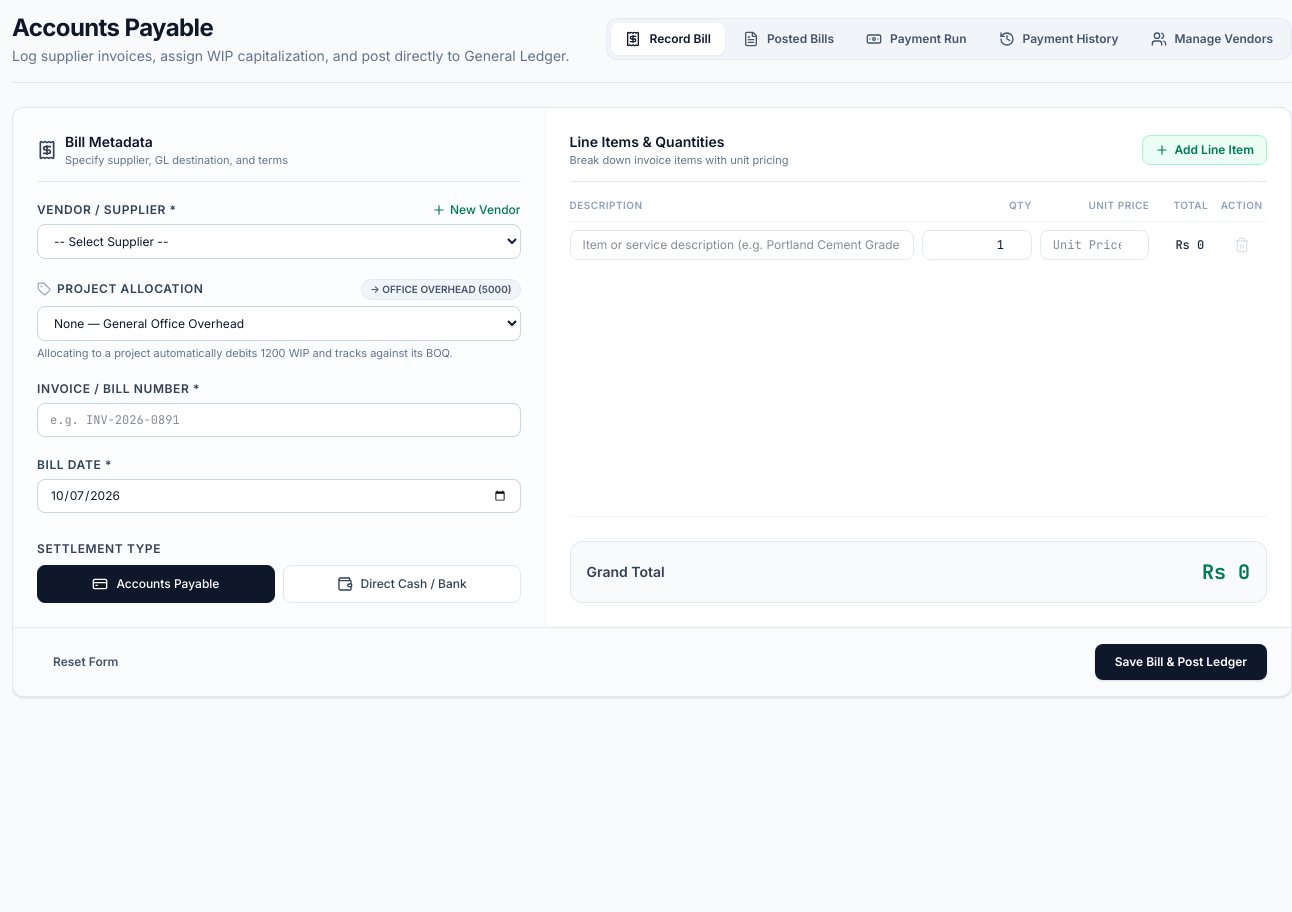
Test: Accounts Payable Page (Screens 5 & 7) › Record Bill Panel (Screen 5) › renders duplicate invoice error inline when server returns DUPLICATE_INVOICE
The width and height of the screenshot is (1292, 912).
// Fill required fields
Select "Bestway Cement (+92 300 1111111)" in the dropdown named "Vendor / Supplier" at (279, 241), box [37, 224, 520, 258]
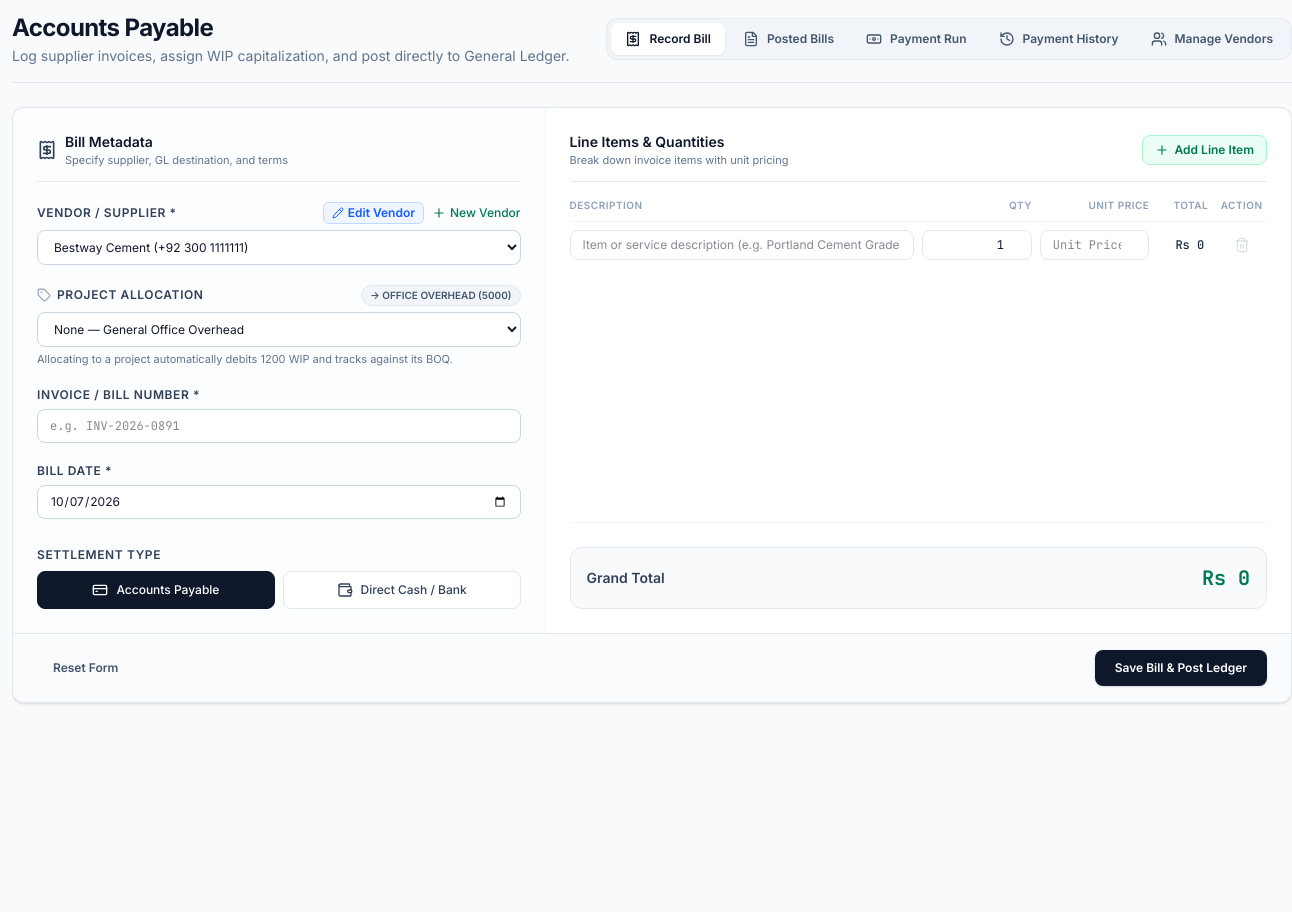
Type "INV-999" into the field with placeholder "e.g. INV-2026-0891".
click(279, 426); type("INV-999")  # box [37, 409, 520, 443]
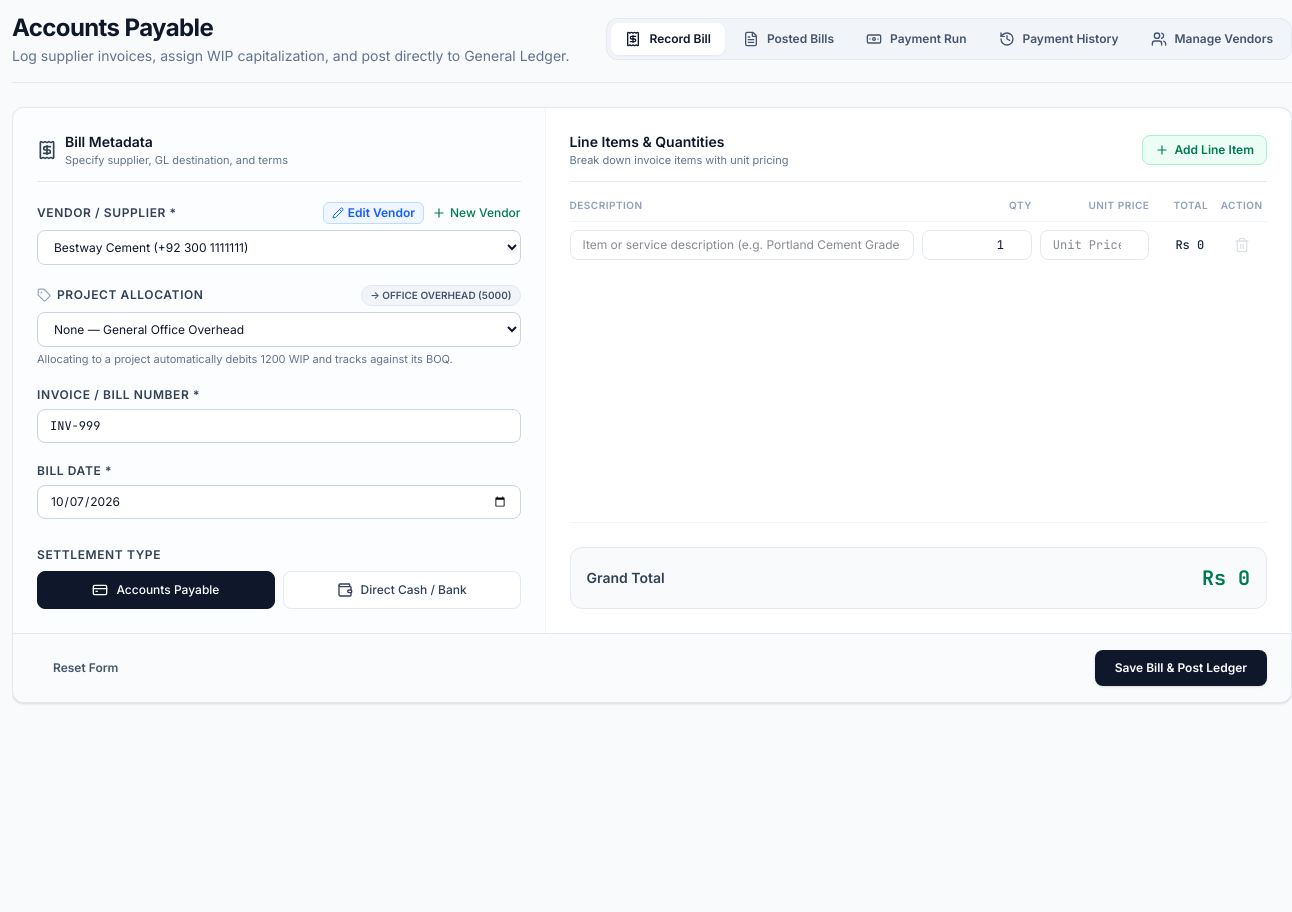
Type "Steel Bars" into the field with placeholder "Item or service description (e.g. Portland Cement Grade 53)".
click(742, 244); type("Steel Bars")  # box [570, 230, 914, 260]
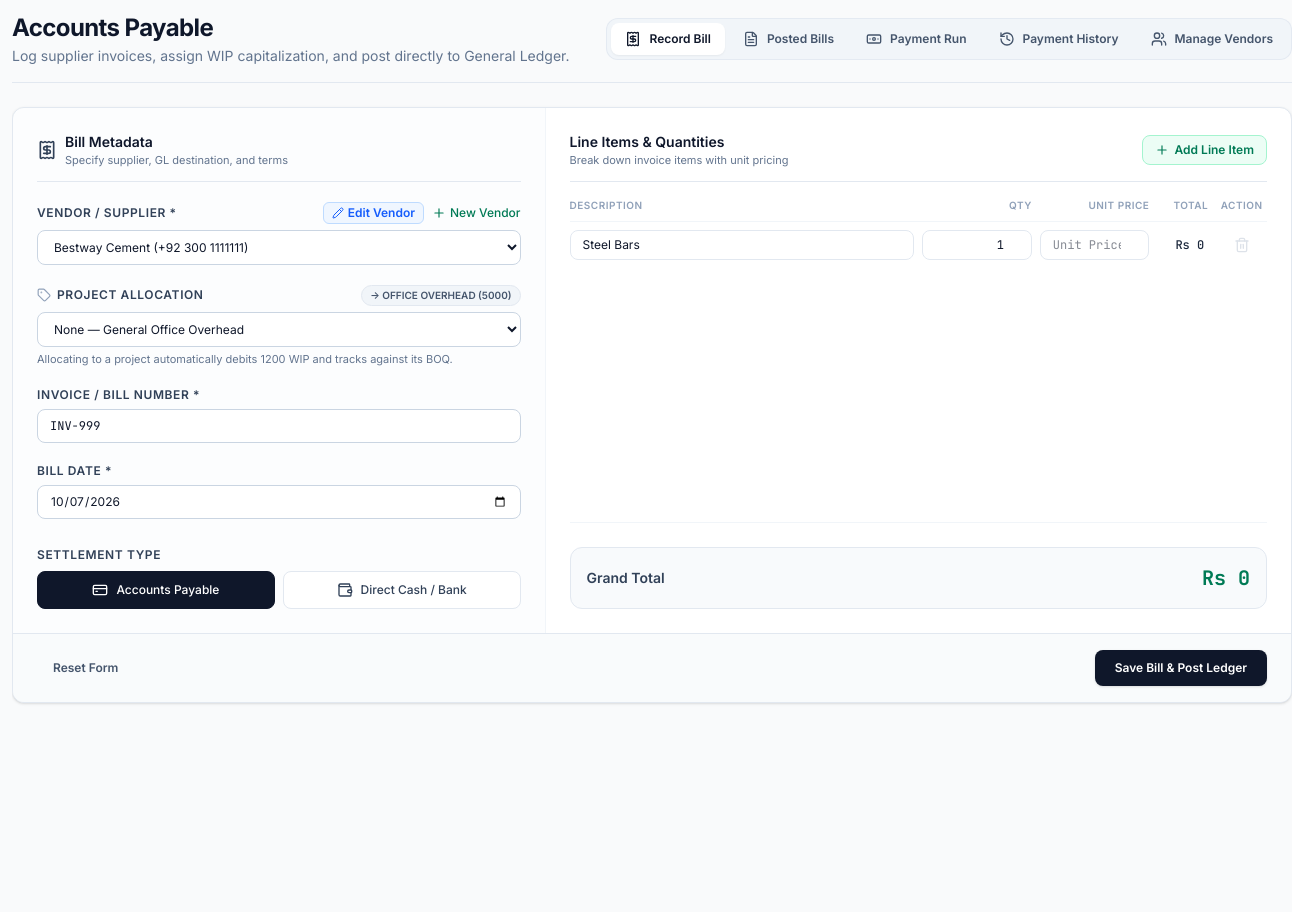
Replace the text in the number field with placeholder "Qty" with "2" at (977, 244), box [922, 230, 1032, 260]
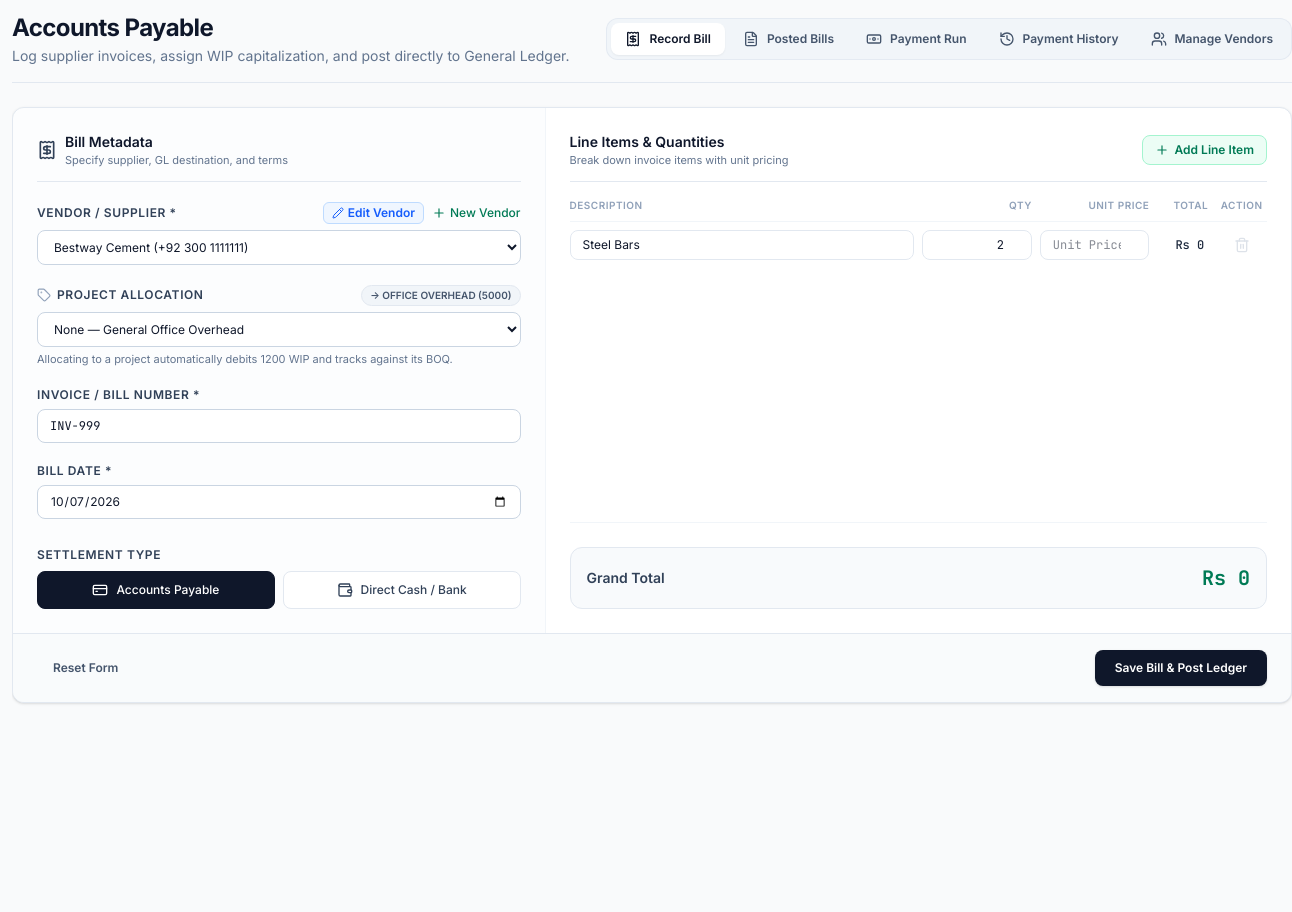
Type "1000" into the number field with placeholder "Unit Price".
click(1095, 244); type("1000")  # box [1040, 230, 1149, 260]
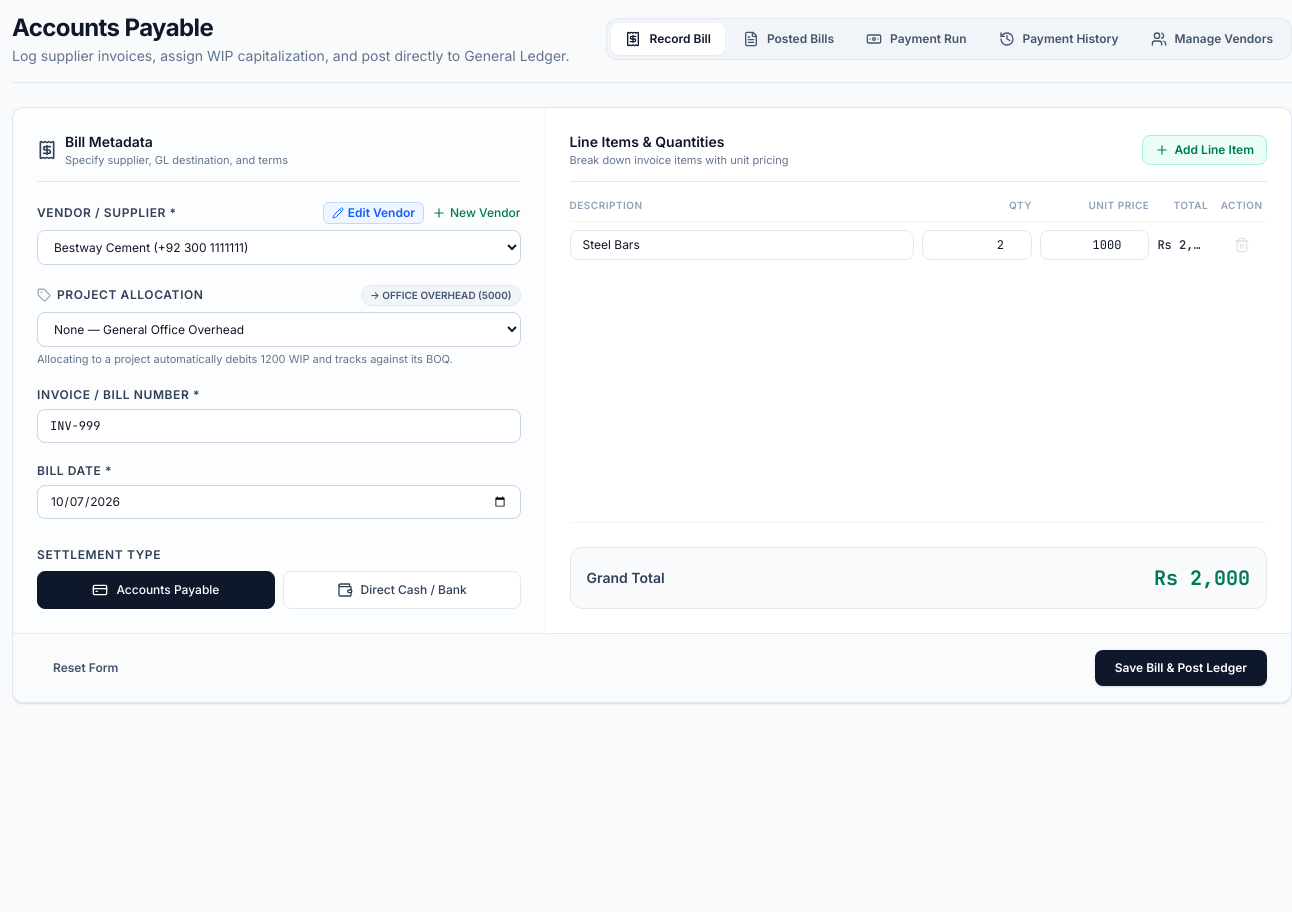
Click the button "Save Bill & Post Ledger".
click(1181, 668)  # box [1095, 650, 1267, 686]
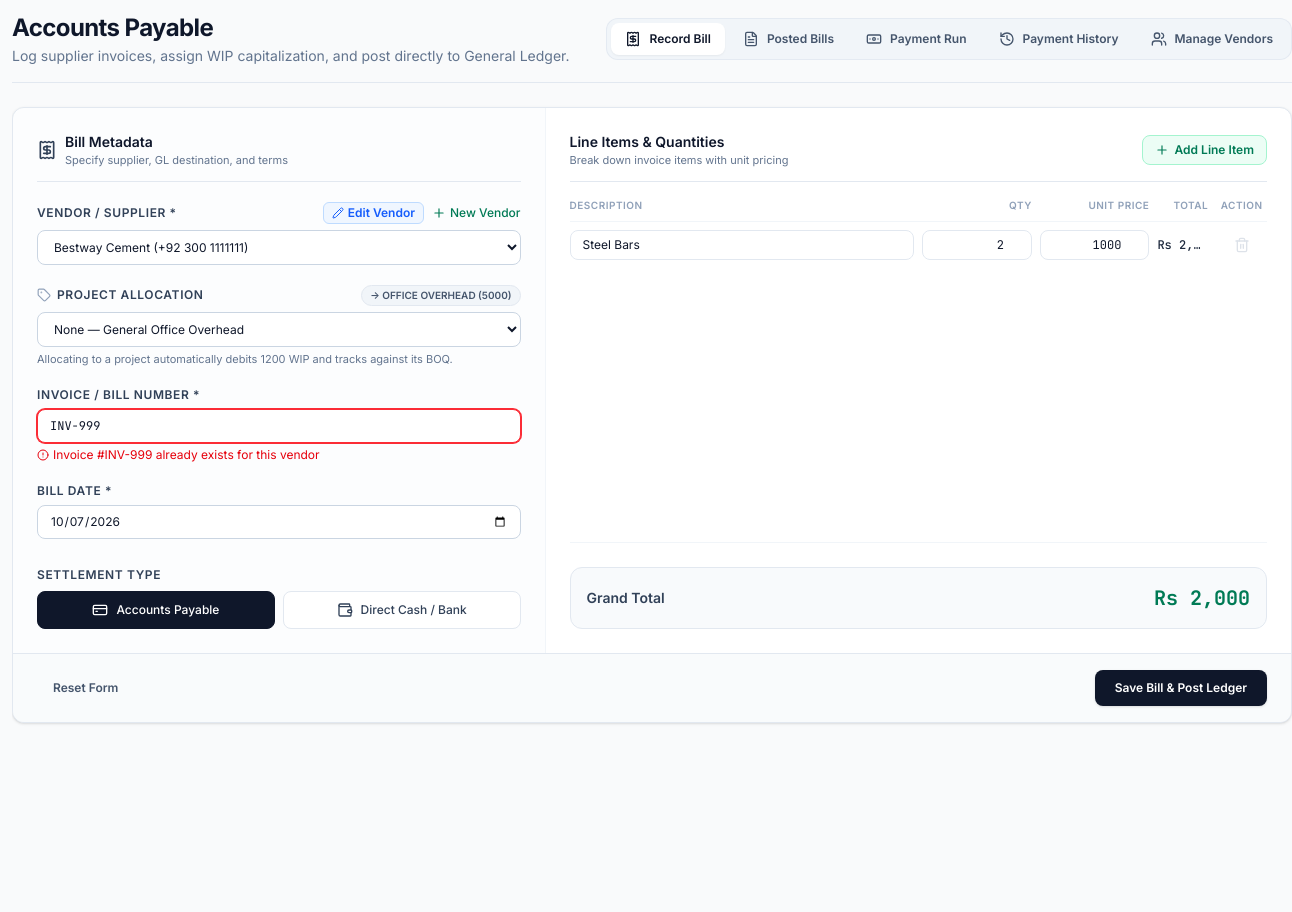
Check: the text "Invoice #INV-999 already exists for this vendor" is shown, box [37, 447, 320, 462]
